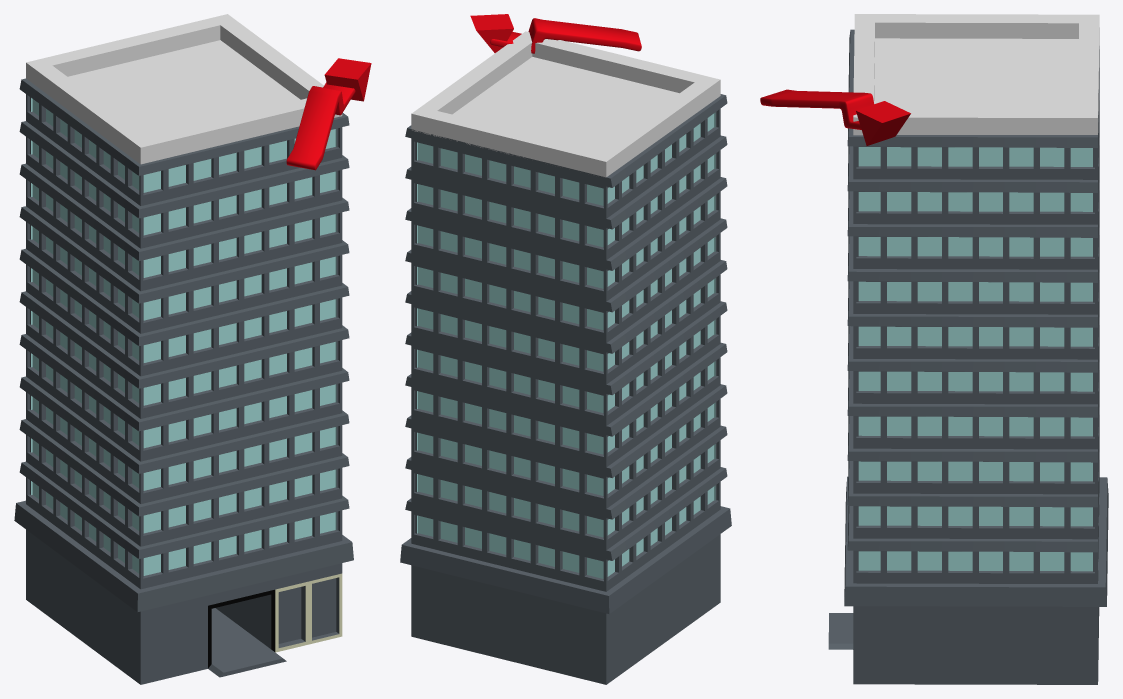
The model's file is stock.glb.
3 renders of one model, left to right at view 1: azimuth 30°, elevation 25°; view 2: azimuth 150°, elevation 25°; view 3: azimuth 270°, elevation 25°, orthographic. The views are drawn at different scales.
Visible parts, largest first — view 1: BodyMain, Bottom, Top, StockBody, SubDoor, StockHead, FrontDoor; view 2: BodyMain, Bottom, Top, StockBody, StockHead; view 3: BodyMain, Top, Bottom, StockBody, StockHead.
Part boxes in pixels (x1,y1,x2,y2): BodyMain: (19, 78, 349, 589); Bottom: (14, 500, 353, 684); Top: (26, 14, 342, 164); StockBody: (286, 82, 355, 170); SubDoor: (275, 573, 342, 652); StockHead: (324, 58, 371, 101); FrontDoor: (208, 589, 275, 668); BodyMain: (405, 94, 727, 591); Bottom: (400, 506, 731, 684); Top: (411, 31, 720, 177); StockBody: (490, 18, 641, 53); StockHead: (470, 14, 513, 52); BodyMain: (847, 29, 1099, 583); Top: (853, 14, 1099, 135); Bottom: (828, 476, 1108, 684); StockBody: (760, 89, 873, 129); StockHead: (856, 101, 910, 145).
Bounding box in the file's own units: 1.6 × 3.36 × 1.82.
